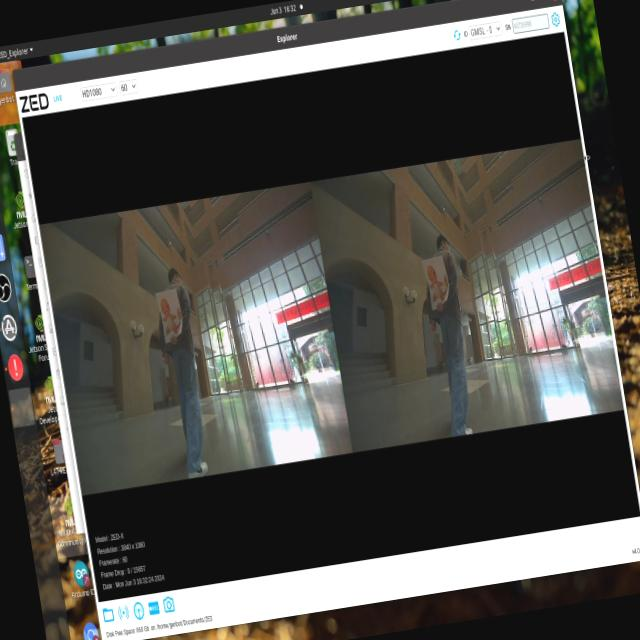red: (154, 283, 192, 350), (419, 258, 457, 316)
